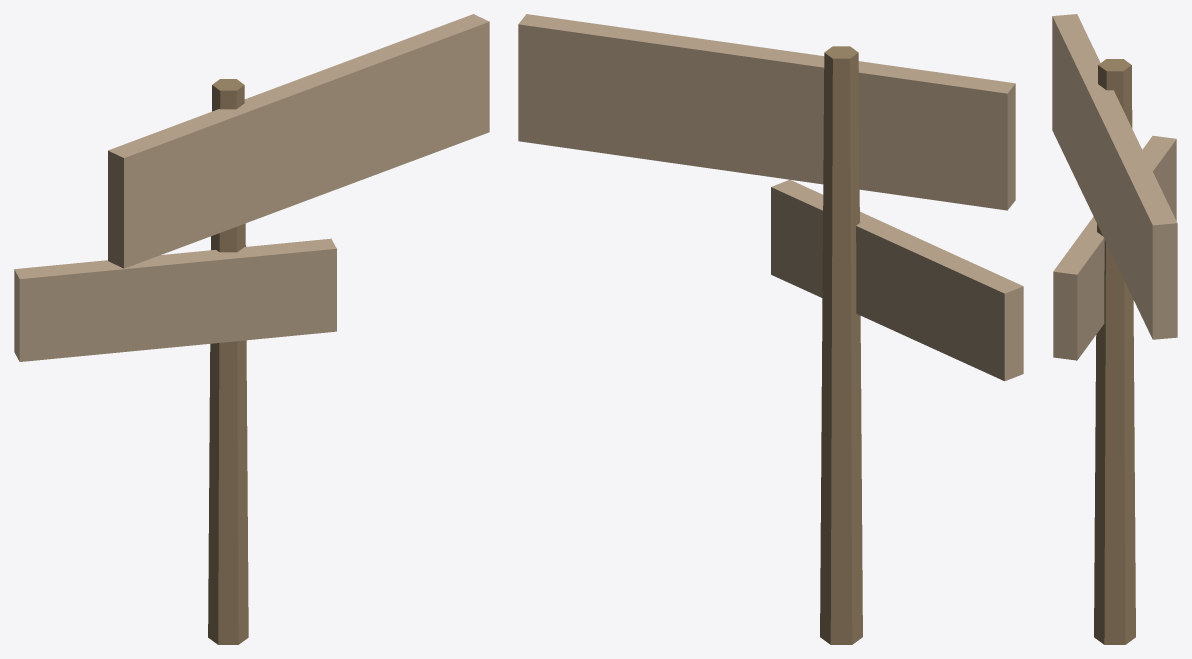
File: signpost.glb
3 views of the same model, side by side, from view 1: azimuth 30°, elevation 25°; view 2: azimuth 150°, elevation 25°; view 3: azimuth 270°, elevation 25° (orthographic). The views are drawn at different scales.
Visible parts, largest first — view 1: signpost; view 2: signpost; view 3: signpost.
Part boxes in pixels (x1=…): signpost: x1=14, y1=14, x2=489, y2=644; signpost: x1=518, y1=14, x2=1023, y2=644; signpost: x1=1052, y1=14, x2=1177, y2=644.
Size of the model in its own units: 2.67 by 3 by 0.5944.
